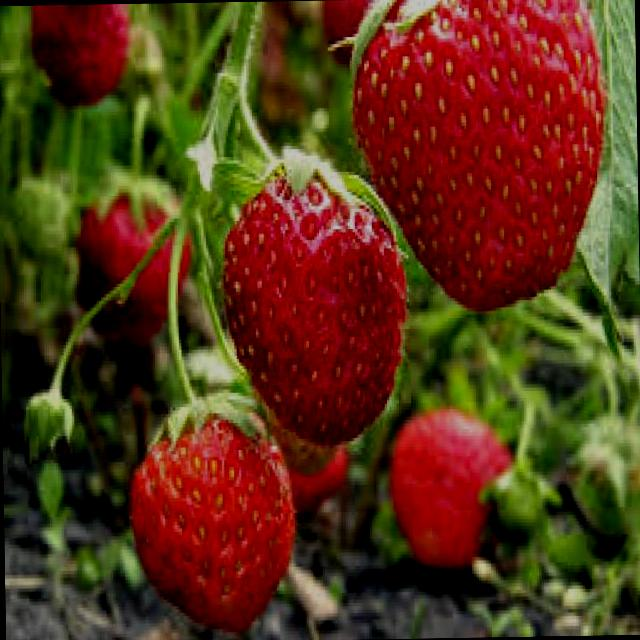Strawberry: (343, 0, 613, 312), (221, 154, 411, 446), (126, 388, 300, 634), (389, 400, 517, 572), (76, 177, 196, 348), (30, 3, 134, 106)
